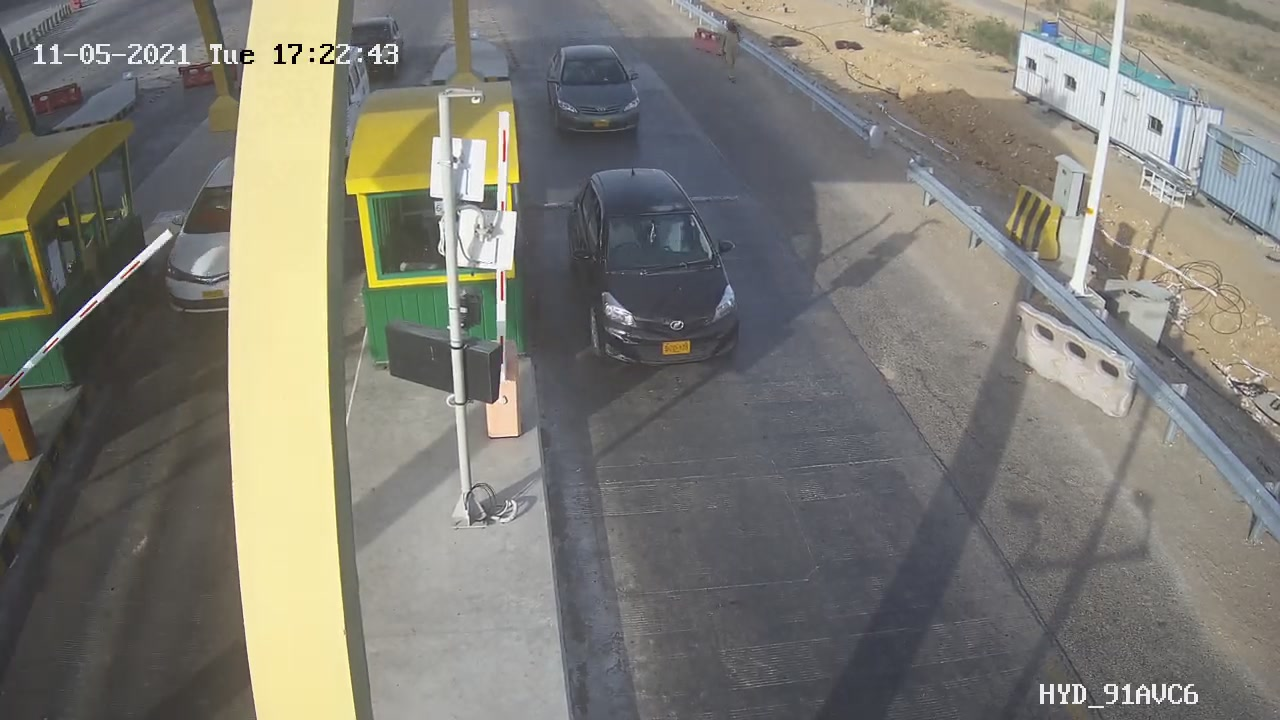F1: (550, 155, 768, 396), (531, 33, 663, 157)
